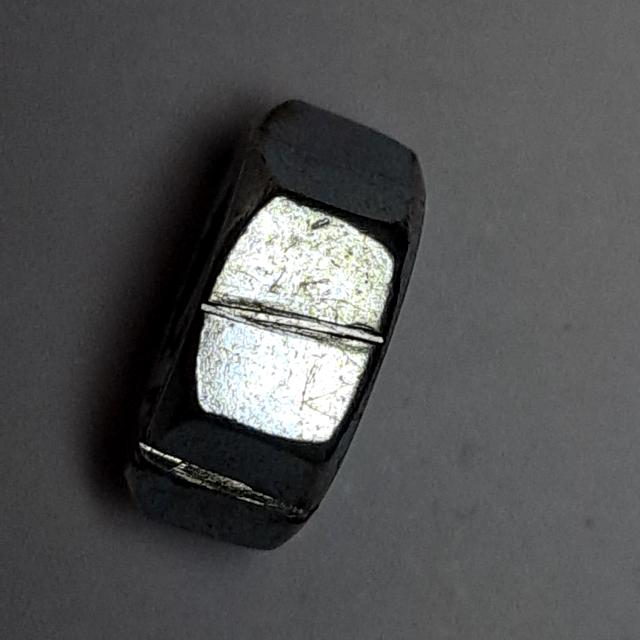Side_Scratches: (111, 87, 438, 572)
